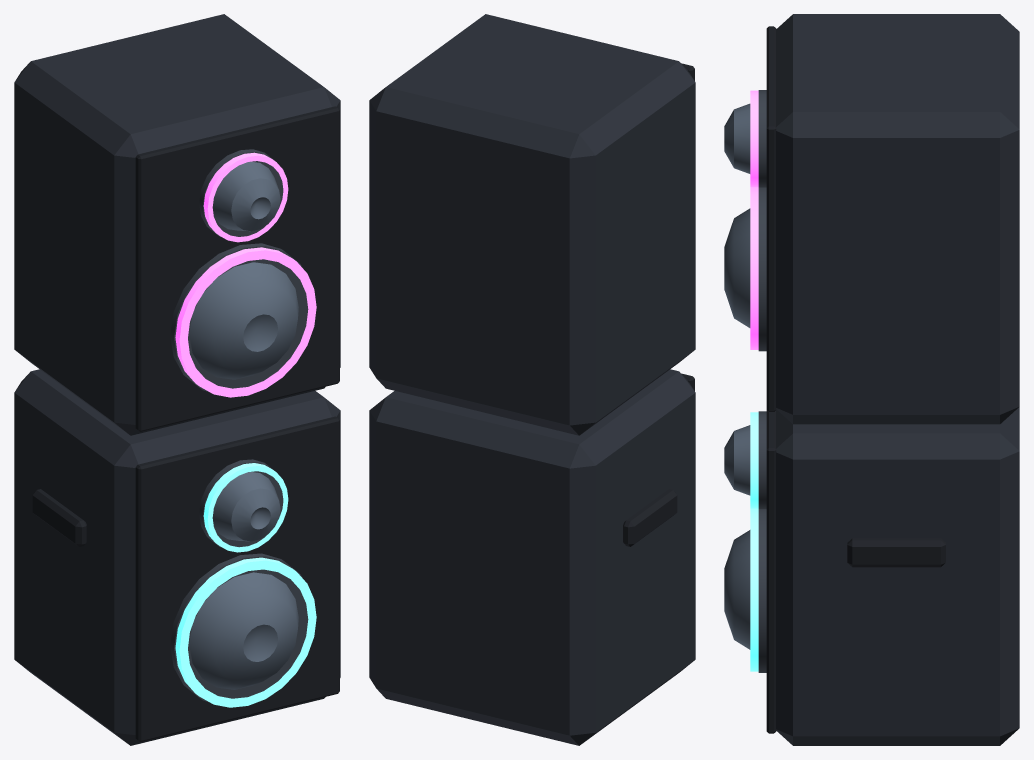
The model's file is caixas_som_pequenas.glb.
3 renders of one model, left to right at view 1: azimuth 30°, elevation 25°; view 2: azimuth 150°, elevation 25°; view 3: azimuth 270°, elevation 25°, orthographic. The views are drawn at different scales.
Visible parts, largest first — view 1: caixas_som_pequenas, aneis_neon; view 2: caixas_som_pequenas; view 3: caixas_som_pequenas, aneis_neon.
Boxes of the visible parts, box(x1,y1,x2,y2) form: caixas_som_pequenas: box(14, 14, 340, 745); aneis_neon: box(175, 152, 316, 707); caixas_som_pequenas: box(369, 14, 695, 745); caixas_som_pequenas: box(724, 14, 1019, 745); aneis_neon: box(750, 90, 758, 671).
Size of the model in its own units: 0.6 by 1.42 by 0.6.
Materials: 3 (1 with a texture image).
